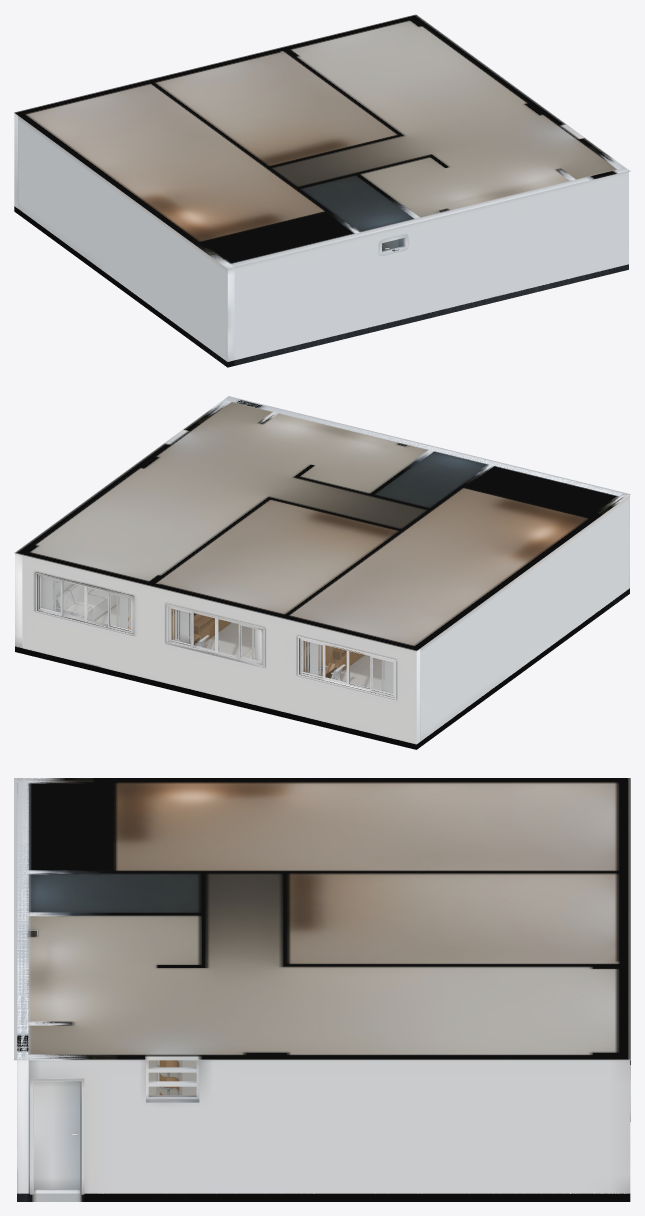
File: pnr.glb
The picture shows the model from 3 angles, top to bottom: view 1: azimuth 30°, elevation 25°; view 2: azimuth 150°, elevation 25°; view 3: azimuth 270°, elevation 25°; orthographic projection. The views are drawn at different scales.
Parts seen in each view (by area): view 1: Teto, G5, G1, Arq_Piso, G4; view 2: Teto, G4, G1, Arq_Piso, G6, G2, G5; view 3: Teto, G6, Arq_Piso, G5.
Boxes of the visible parts, bbox=[...] form: Teto: bbox=[14, 14, 630, 269]; G5: bbox=[231, 168, 628, 359]; G1: bbox=[18, 116, 234, 361]; Arq_Piso: bbox=[14, 206, 628, 367]; G4: bbox=[14, 113, 419, 251]; Teto: bbox=[14, 396, 630, 651]; G4: bbox=[22, 450, 433, 744]; G1: bbox=[381, 493, 629, 740]; Arq_Piso: bbox=[15, 588, 629, 749]; G6: bbox=[15, 400, 277, 647]; G2: bbox=[297, 636, 396, 699]; G5: bbox=[171, 397, 621, 647]; Teto: bbox=[14, 778, 630, 1060]; G6: bbox=[28, 1022, 630, 1194]; Arq_Piso: bbox=[17, 1060, 630, 1201]; G5: bbox=[17, 783, 37, 1193].
Bounding box in the file's own units: 11.27 × 2.65 × 10.41.
Materials: 143 (109 with a texture image).
